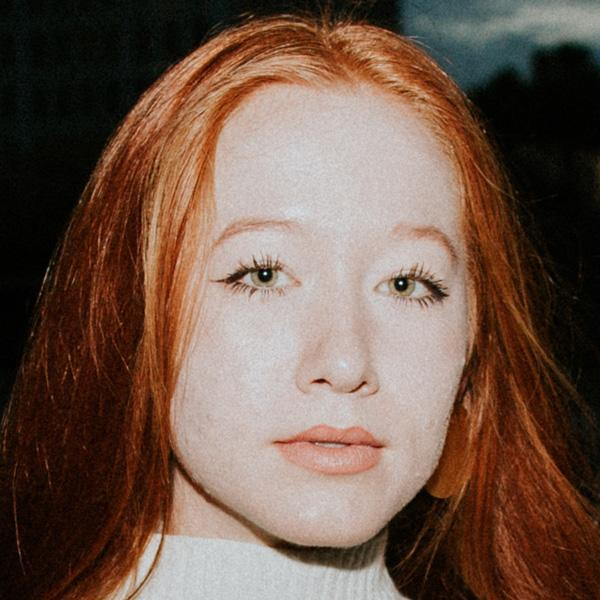Eyes: (218, 249, 311, 309), (366, 261, 459, 316)
